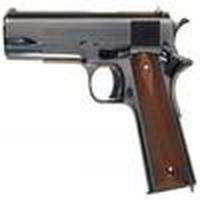gun: (3, 11, 198, 189)
